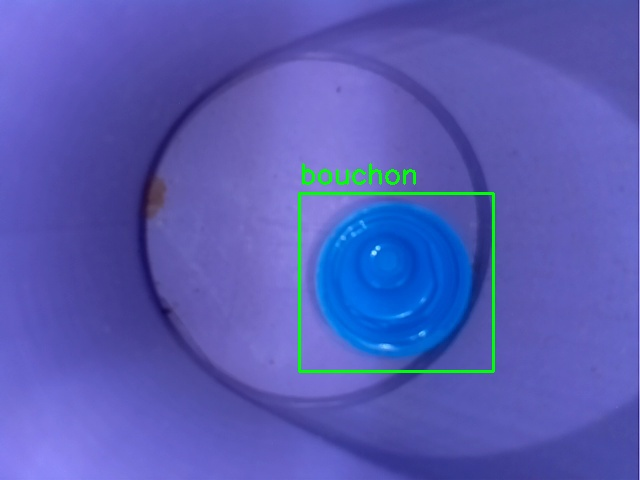bouchon: (299, 193, 493, 371)
